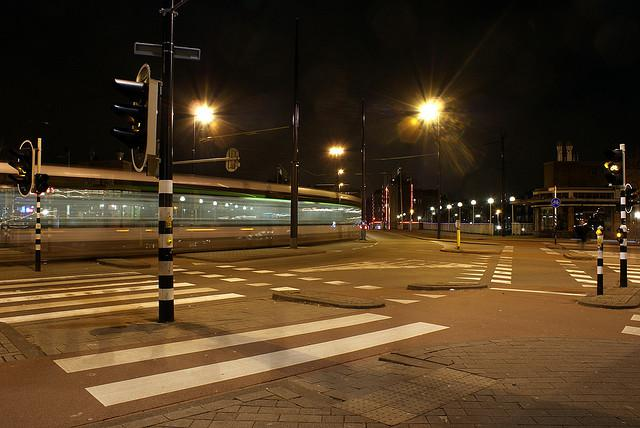Train: (3, 166, 365, 268)
